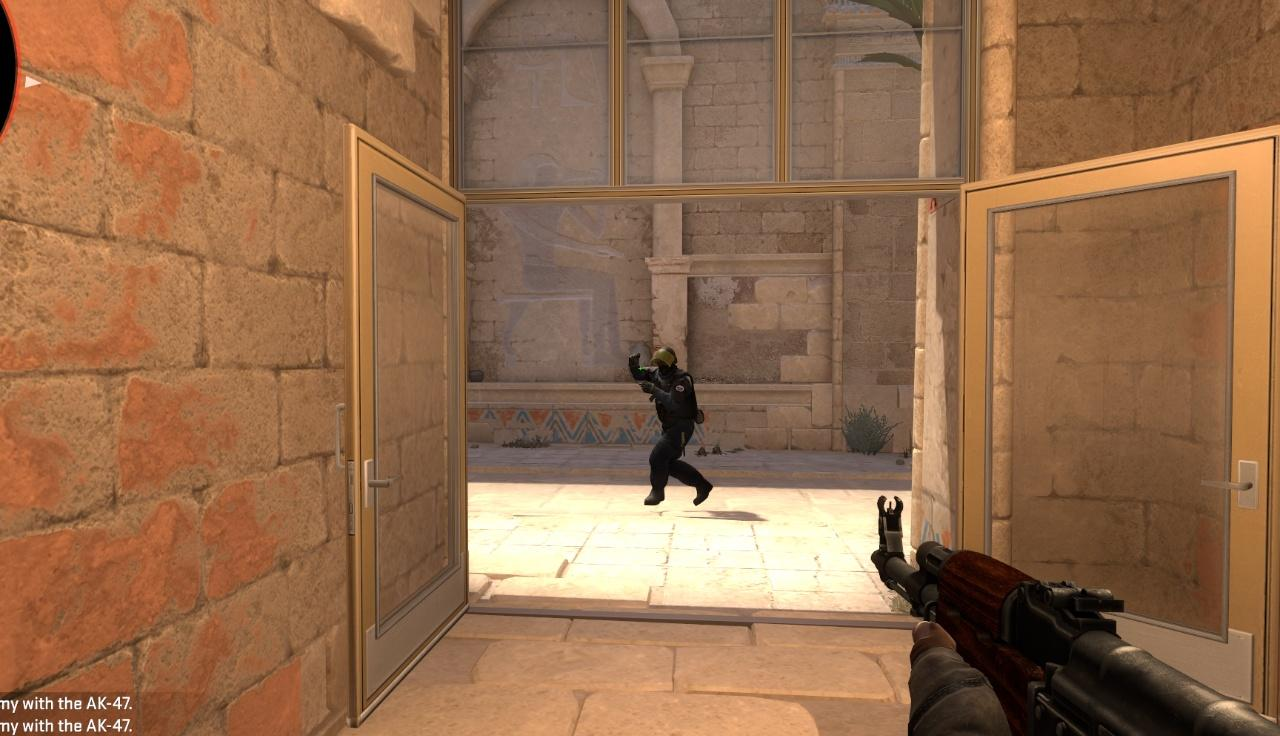ct: (640, 349, 695, 507)
cthead: (652, 348, 677, 375)
rifle: (870, 491, 1280, 736)
